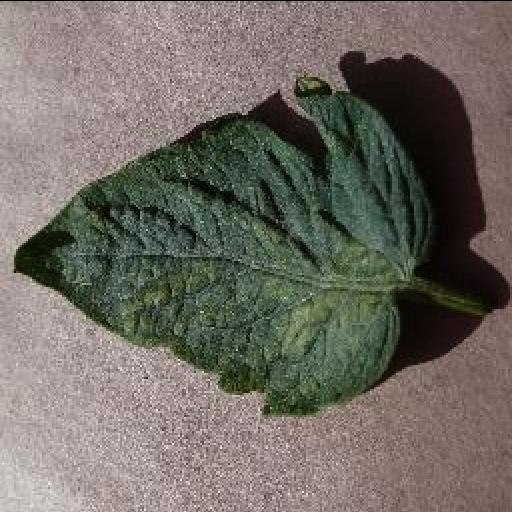disease_tomato: (12, 94, 438, 418)
